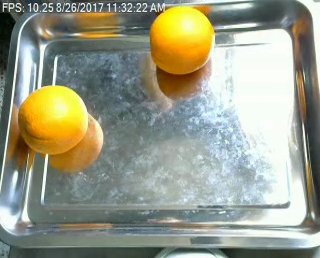Orange: (17, 84, 89, 155), (148, 7, 215, 75)
